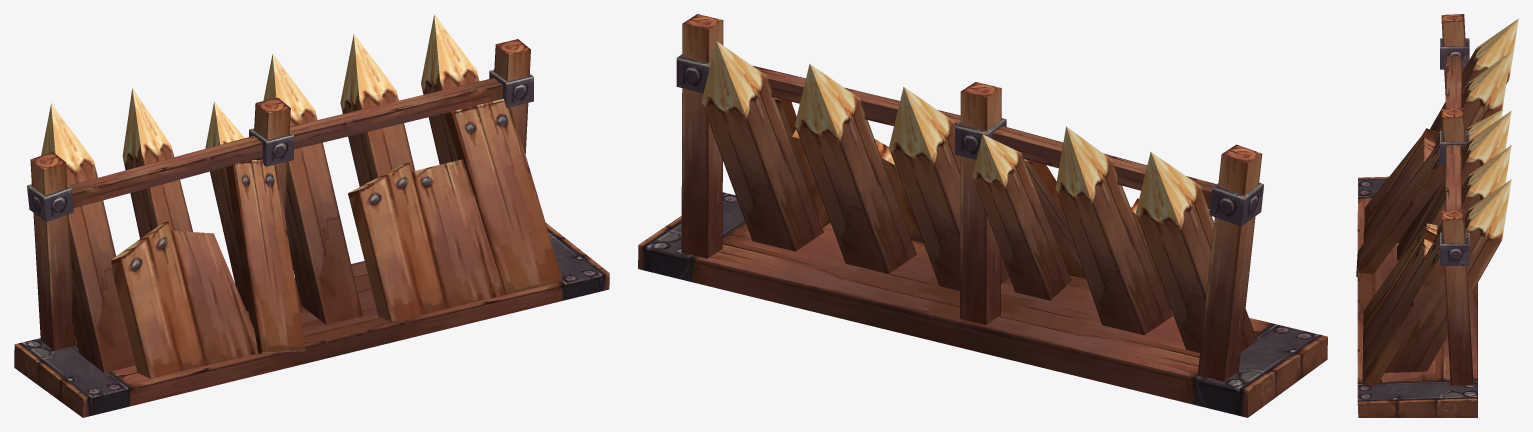
The model's file is 2_Loading_XiaoZhaLan_01.FBX.
3 views of the same model, side by side, from view 1: azimuth 30°, elevation 25°; view 2: azimuth 150°, elevation 25°; view 3: azimuth 270°, elevation 25° (orthographic). The views are drawn at different scales.
Parts seen in each view (by area): view 1: 2_Loading_XiaoZhaLan_01; view 2: 2_Loading_XiaoZhaLan_01; view 3: 2_Loading_XiaoZhaLan_01.
Part boxes in pixels (x1=…): 2_Loading_XiaoZhaLan_01: x1=14, y1=14, x2=609, y2=417; 2_Loading_XiaoZhaLan_01: x1=638, y1=14, x2=1327, y2=417; 2_Loading_XiaoZhaLan_01: x1=1356, y1=14, x2=1518, y2=417.
Bounding box in the file's own units: 271 × 114 × 83.43.
Materials: 1 (1 with a texture image).
